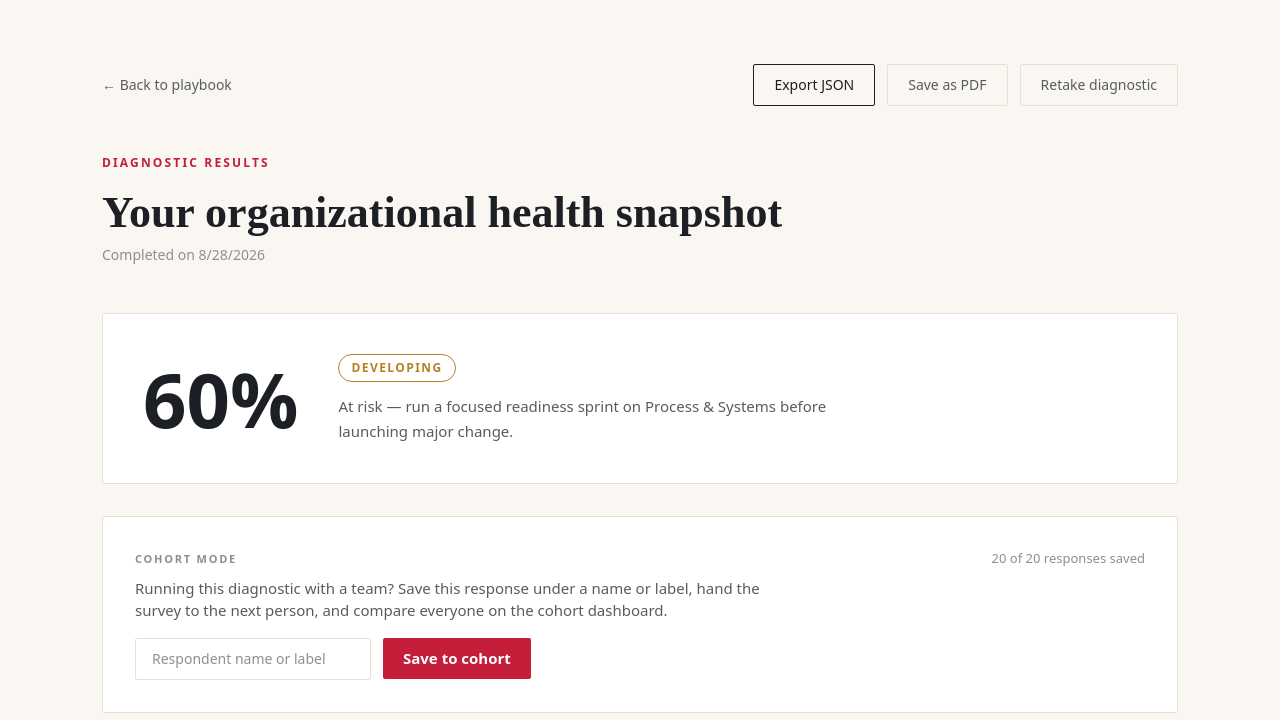
Test: ResultsDashboard cohort integration › shows the full-cohort message when at capacity
The width and height of the screenshot is (1280, 720).
Type "One more" into the field labelled "Respondent name or label" at (253, 658), box [135,638,371,680]
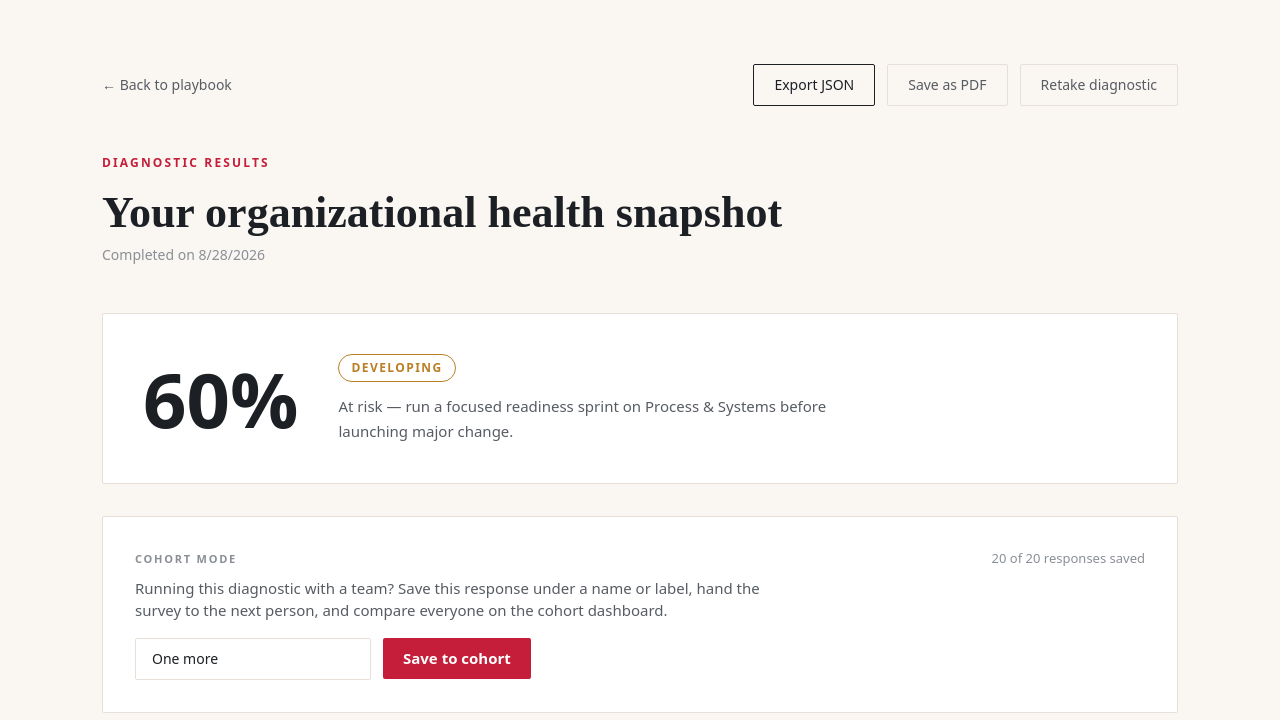
Click the button "Save to cohort" at (457, 658), box [383,638,531,679]
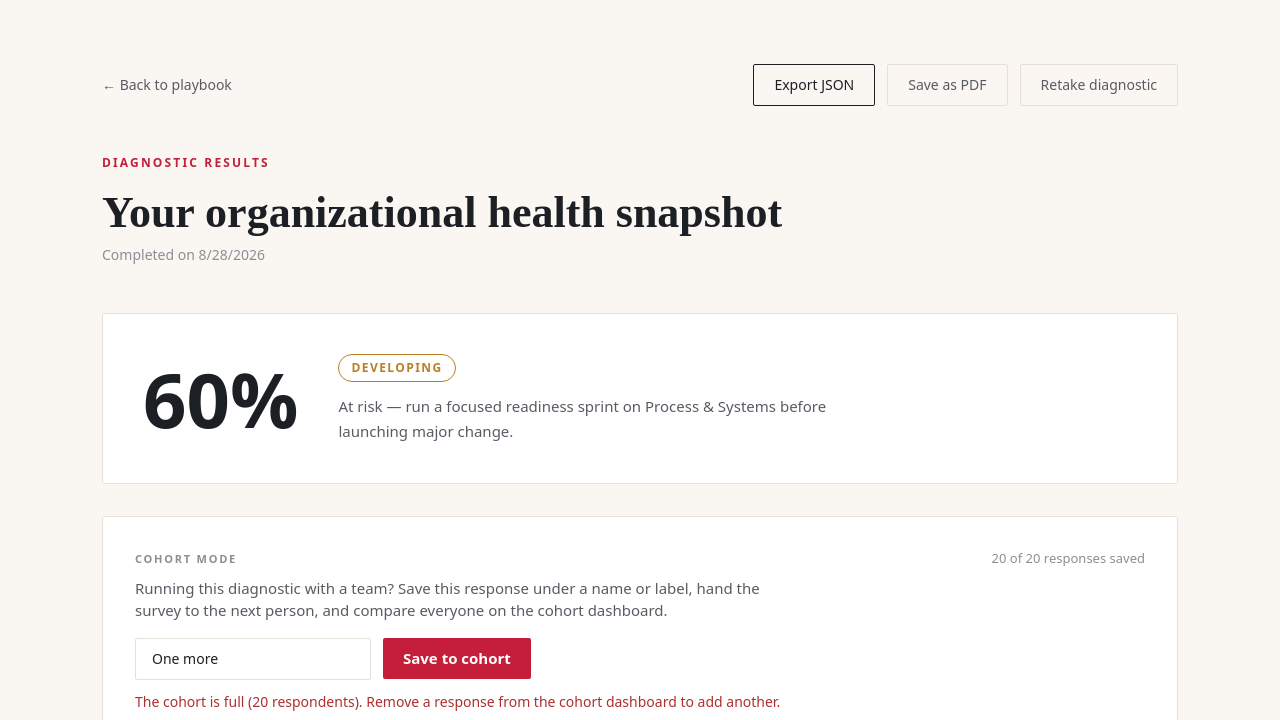
Now the text "cohort is full" is shown, box [135,692,780,710]
